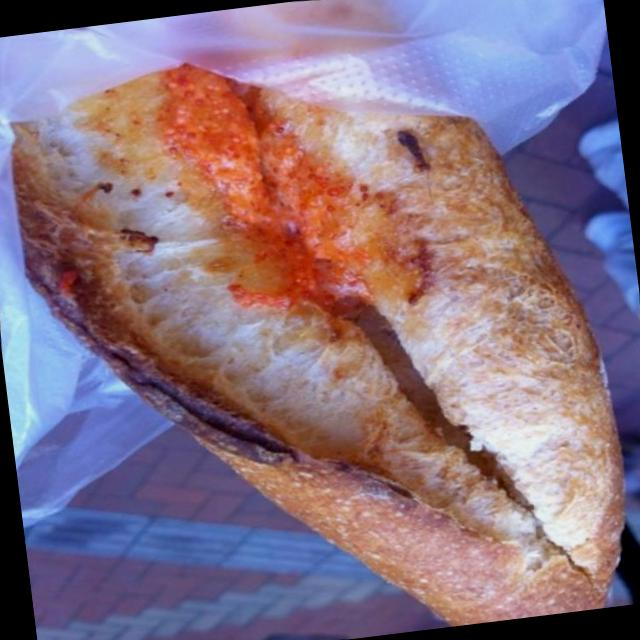Bread: (3, 83, 618, 640)
